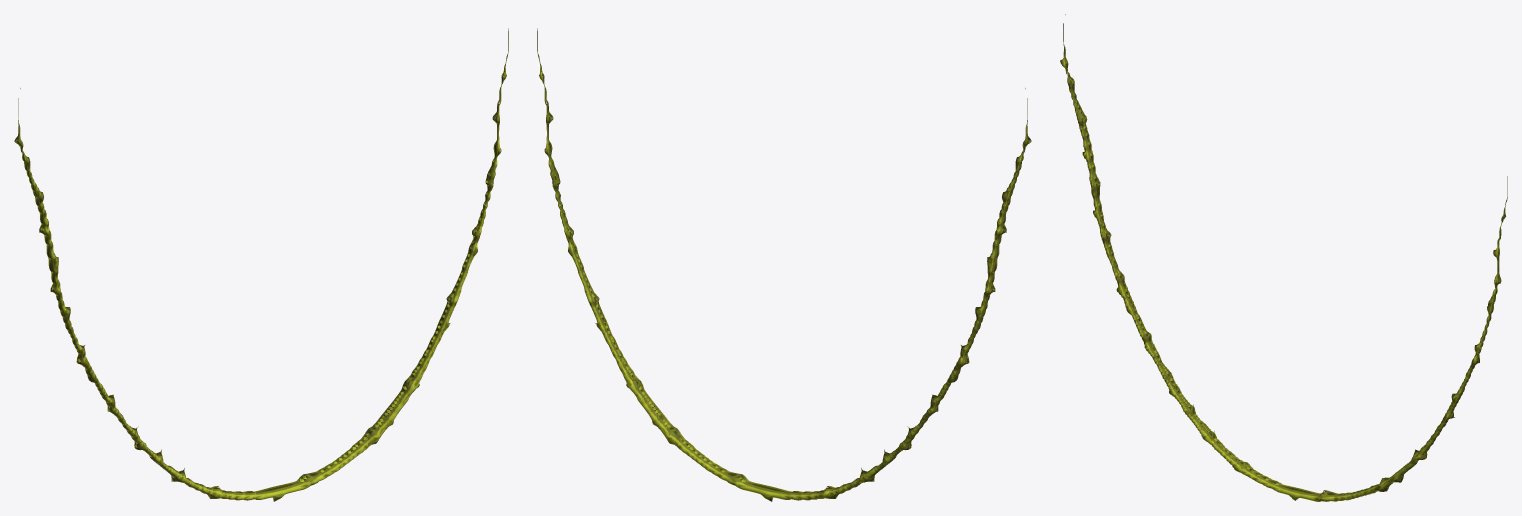
Rendered from hanging_creeper.glb.
3 views of the same model, side by side, from view 1: azimuth 30°, elevation 25°; view 2: azimuth 150°, elevation 25°; view 3: azimuth 330°, elevation 25° (orthographic). The views are drawn at different scales.
Parts seen in each view (by area): view 1: hanging_creeper; view 2: hanging_creeper; view 3: hanging_creeper.
Boxes of the visible parts, x1,y1,x2,y2 form: hanging_creeper: [14, 28, 508, 501]; hanging_creeper: [537, 28, 1031, 501]; hanging_creeper: [1060, 14, 1507, 501].
Bounding box in the file's own units: 0.9898 × 0.9112 × 0.0348.
1 material, 1 textured.
